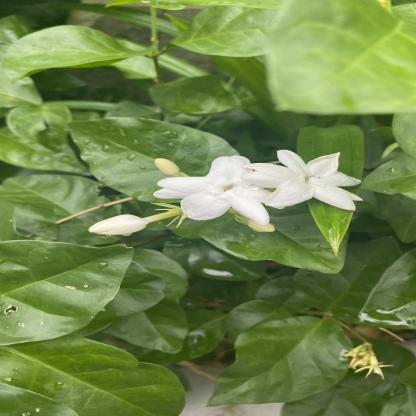Melati: (141, 140, 291, 232), (252, 153, 376, 209)
